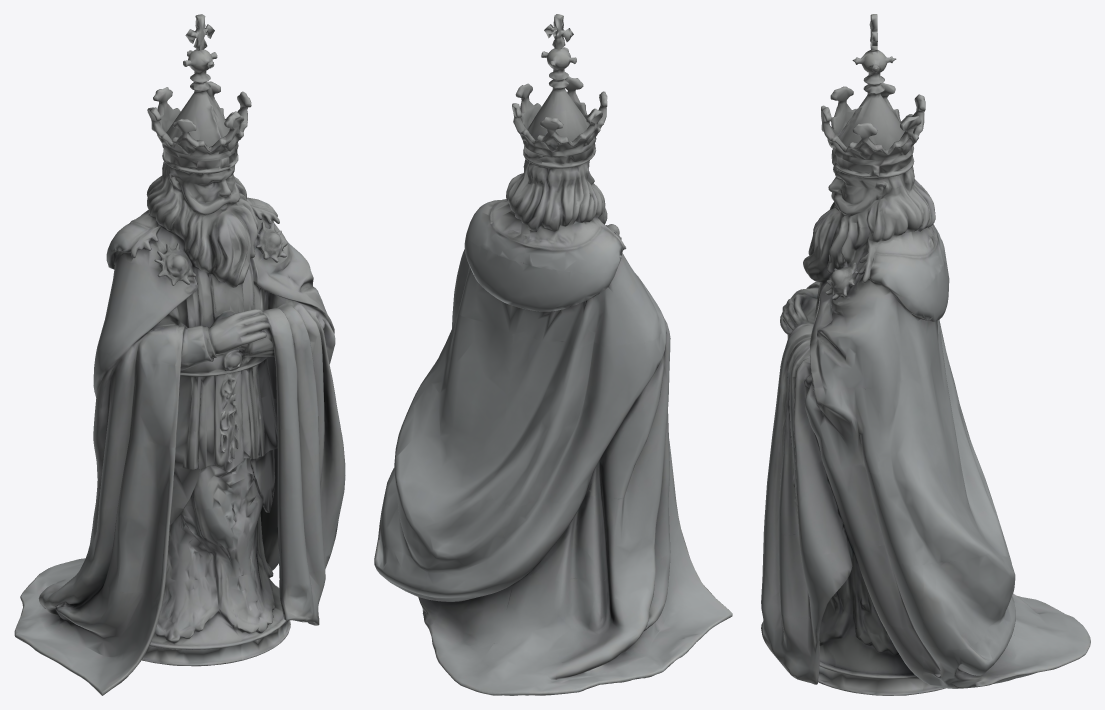
Rendered from king.glb.
The picture shows the model from 3 angles, left to right: view 1: azimuth 30°, elevation 25°; view 2: azimuth 150°, elevation 25°; view 3: azimuth 270°, elevation 25°; orthographic projection. The views are drawn at different scales.
Visible parts, largest first — view 1: world; view 2: world; view 3: world.
Boxes of the visible parts, <box> form: world: <box>14,14,345,695</box>; world: <box>374,14,732,695</box>; world: <box>761,14,1090,695</box>.
Bounding box in the file's own units: 0.4961 × 0.9997 × 0.4658.
Materials: 1 (1 with a texture image).
